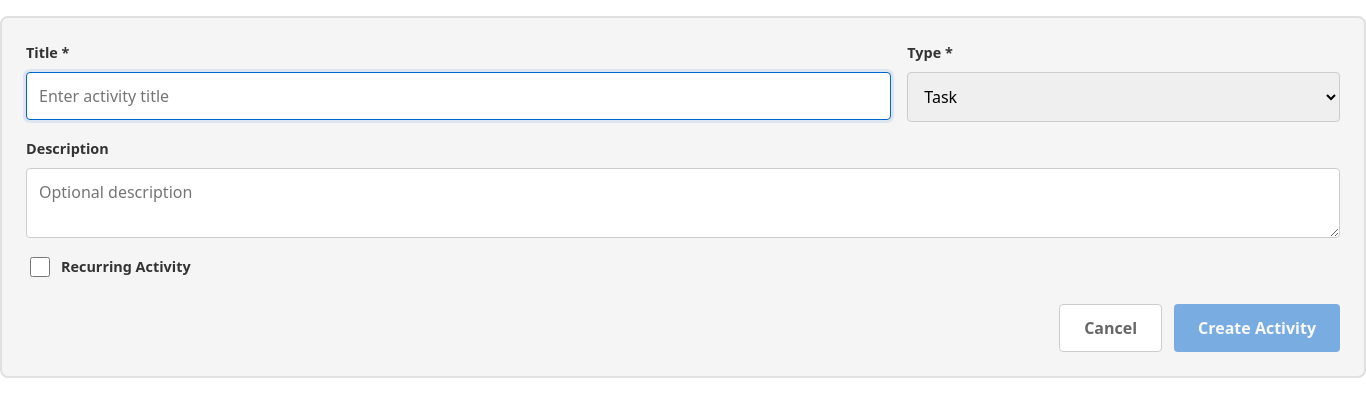
ActivityEditor › enables the save button when a title is entered
Type "My New Task" into the field labelled "Title *" at {"x": 459, "y": 96}, box [26,72,891,120]
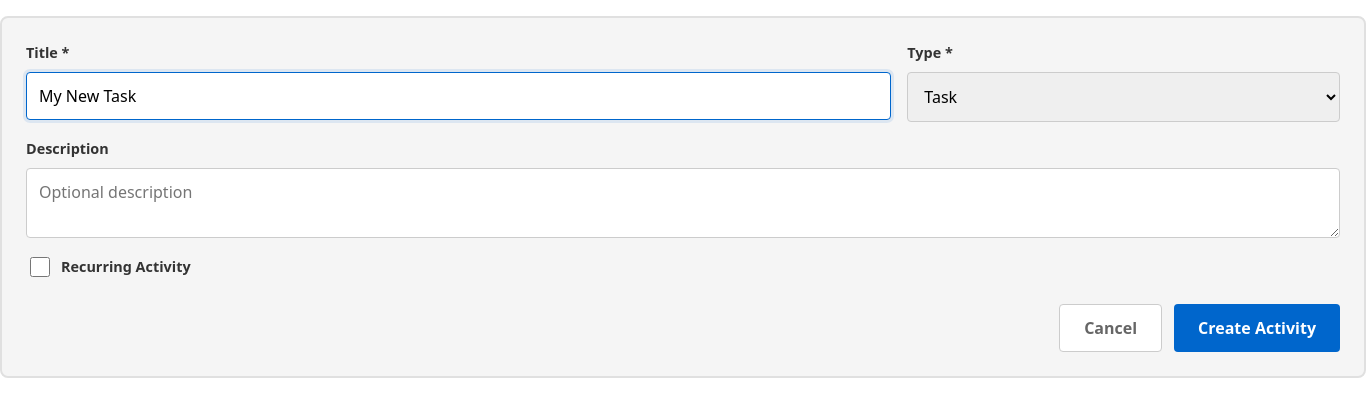
Now the button "Create Activity" is enabled, box [1174,304,1340,352]
